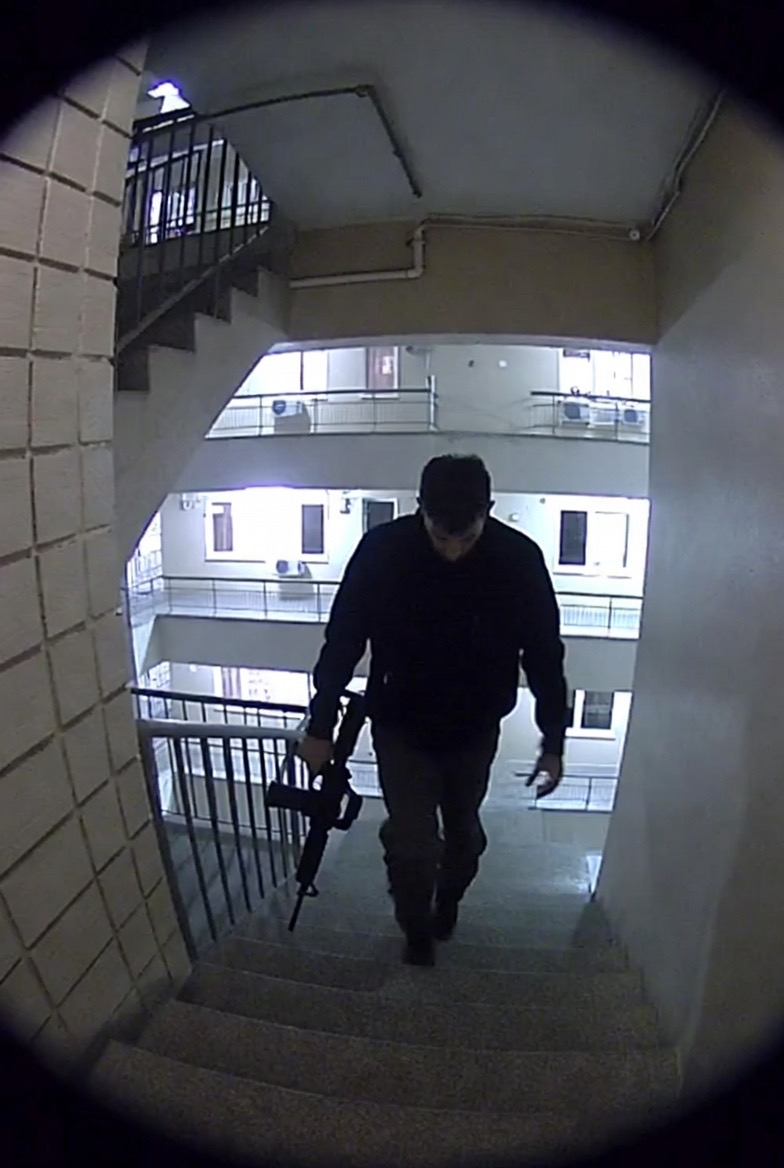person: (298, 452, 570, 969)
weapon: (278, 687, 369, 932)
